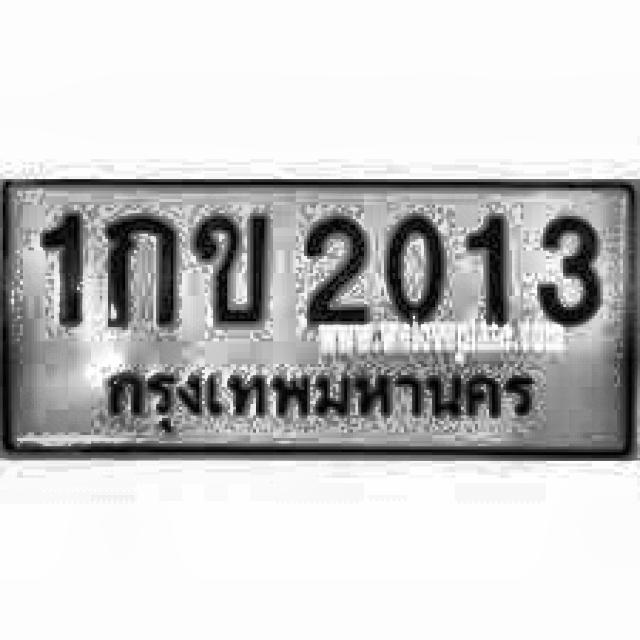license-plate: (0, 180, 640, 460)
